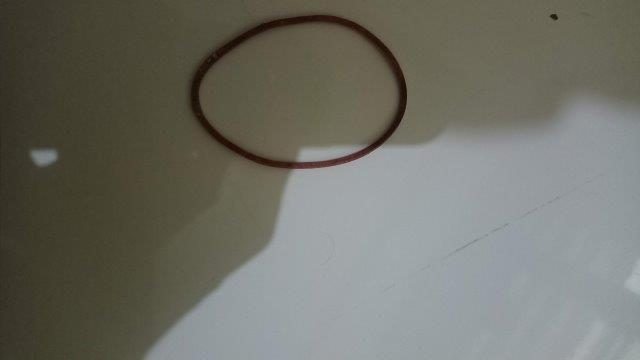karet: (190, 17, 406, 167)
